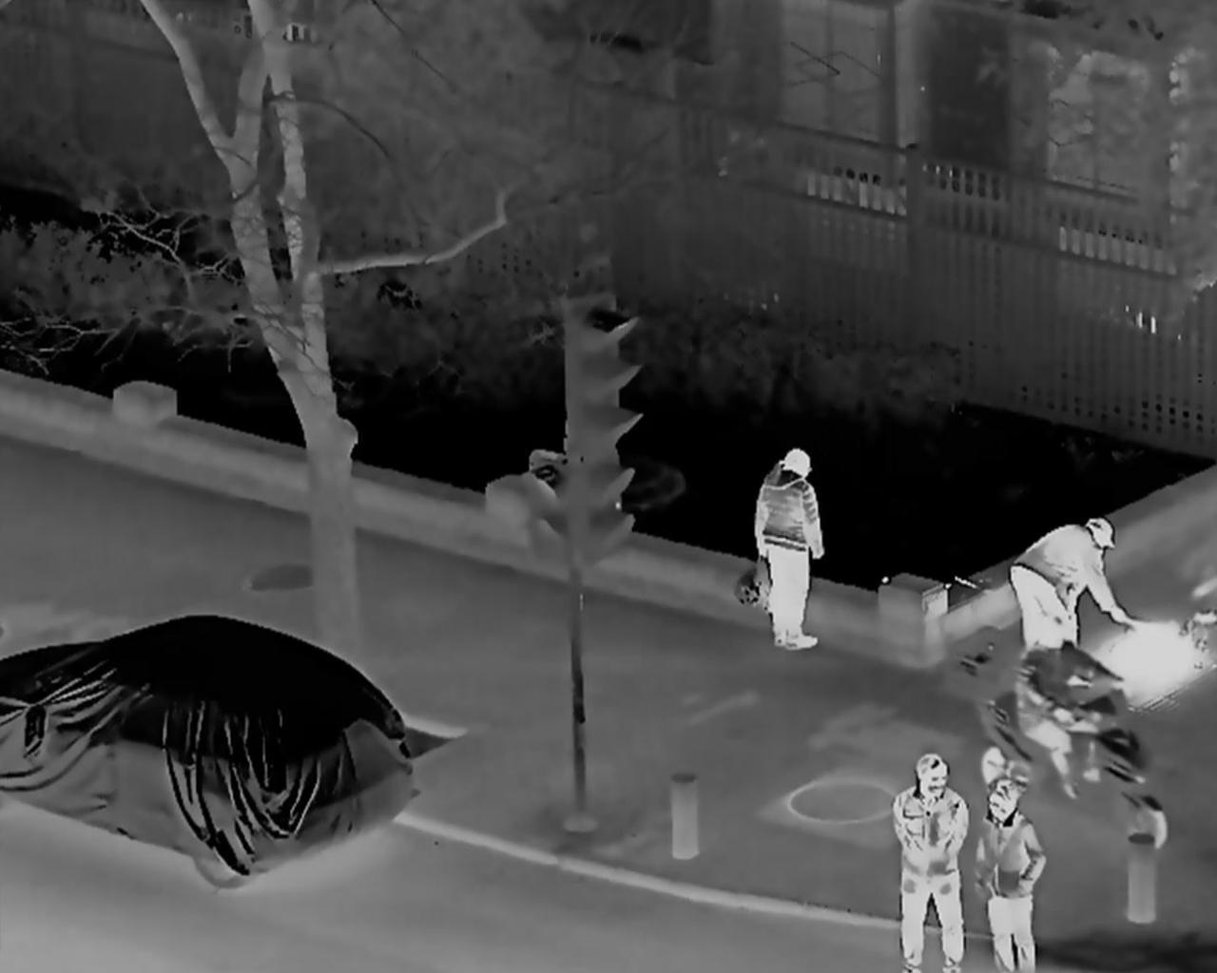person: (1008, 509, 1126, 671), (1016, 618, 1111, 794), (751, 444, 827, 655), (894, 758, 967, 973), (974, 776, 1047, 972)
